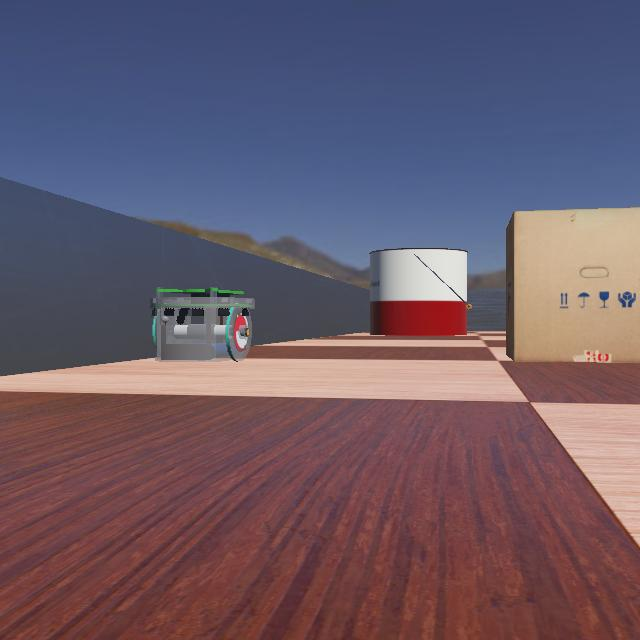cardboard-box: (480, 203, 640, 363)
